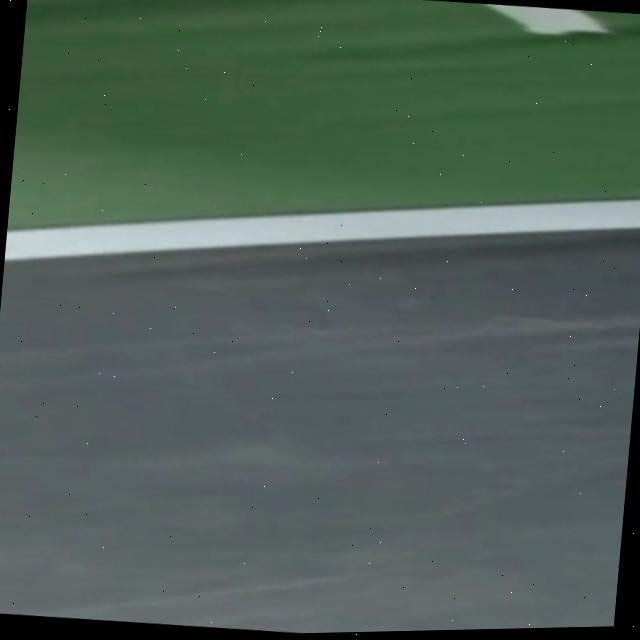right: (4, 200, 640, 260)
